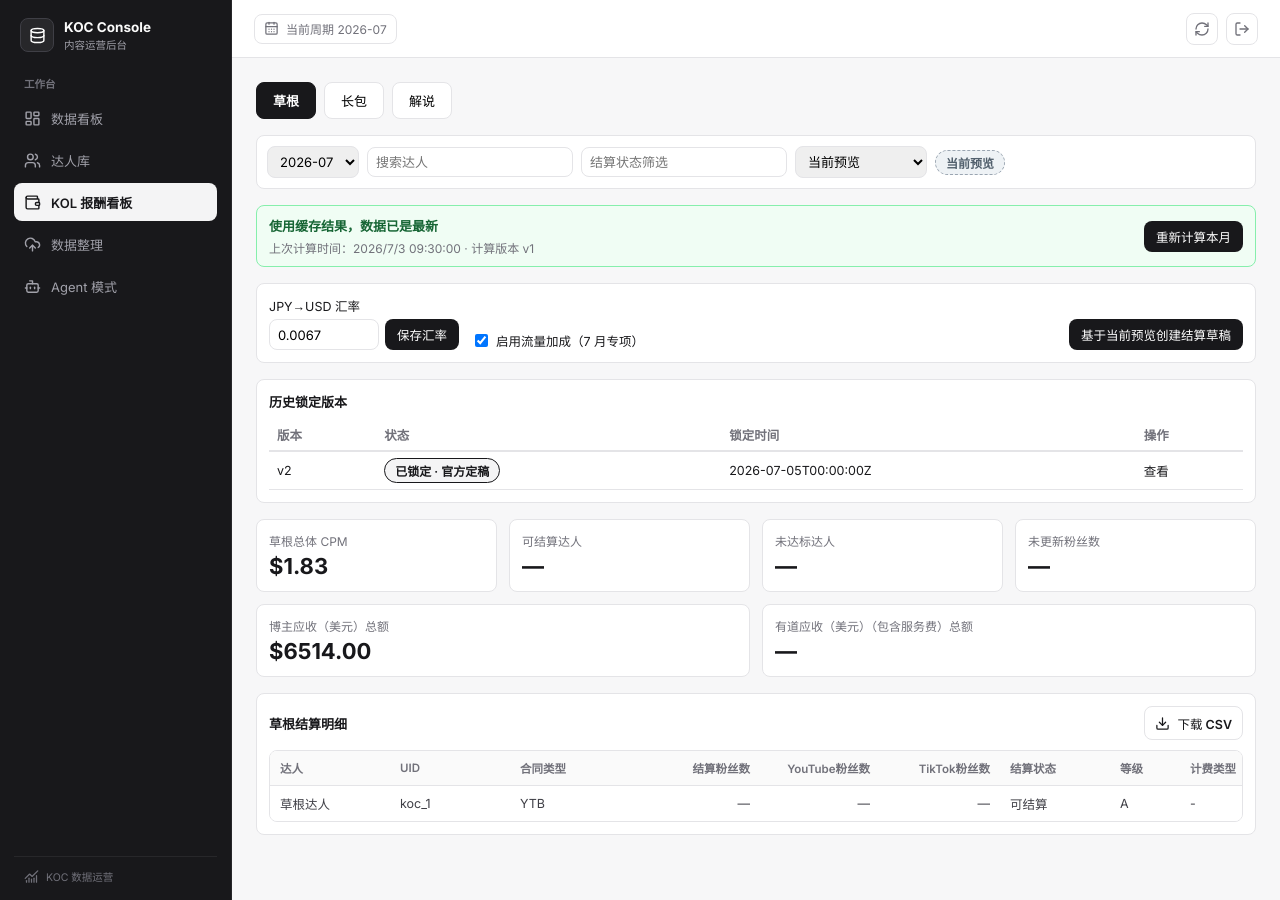
Test: CompensationPage › shows locked versions as read-only with no edit affordances
expect the text "草根达人" is shown: met, box [270,786,390,821]
Step 1. Select "v2（LOCKED）" in the 2nd dropdown → (861, 162), box [795,146,927,178]
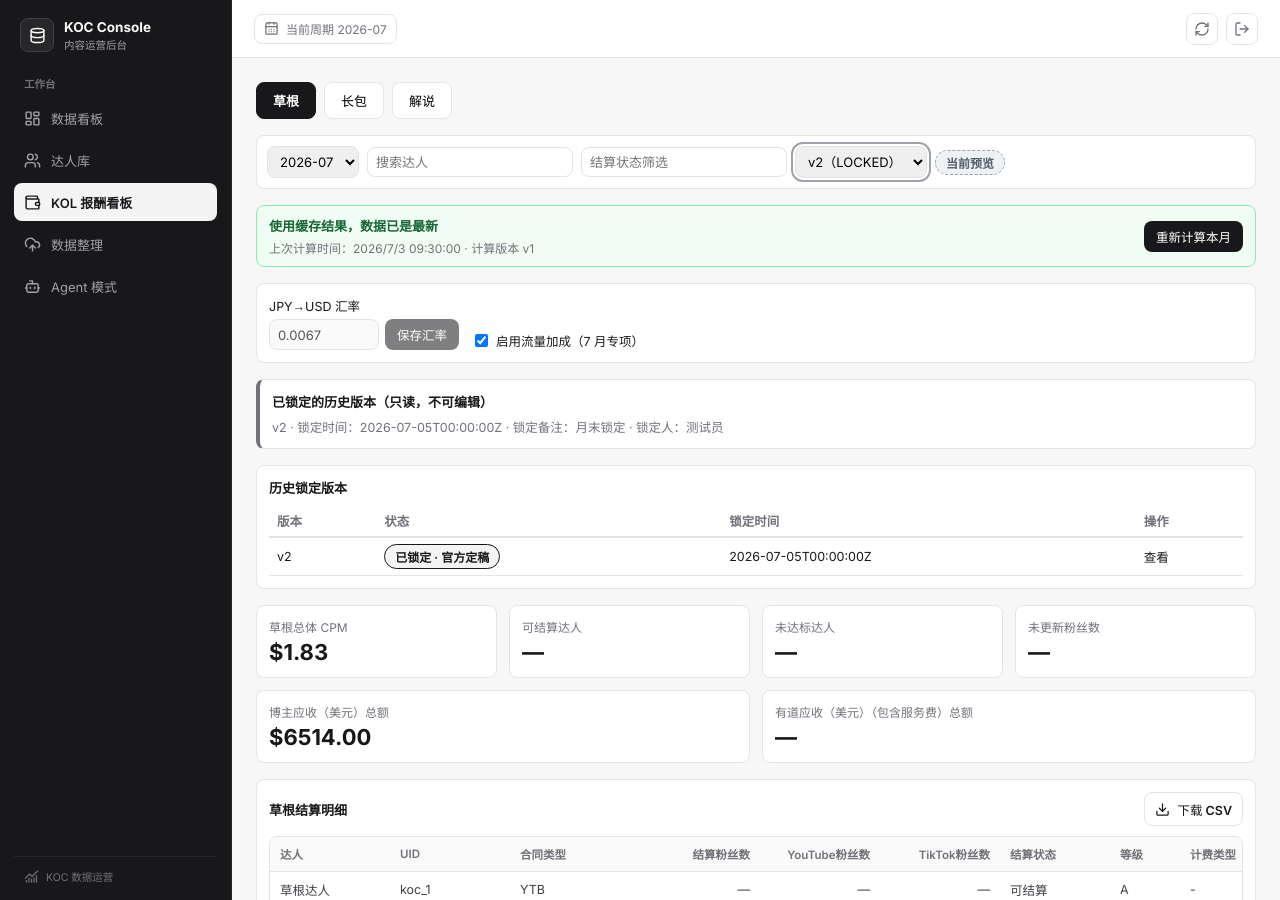
expect the text "已锁定的历史版本（只读，不可编辑）" is shown: met, box [272,394,493,410]
expect the button "基于当前预览创建结算草稿" is gone: met
